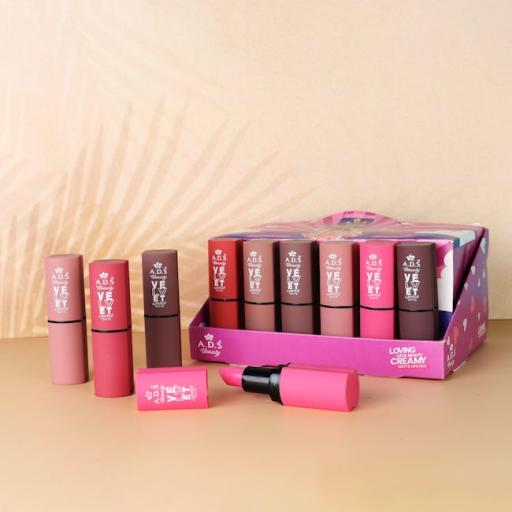lipstick: (219, 364, 359, 411), (90, 260, 133, 396), (45, 254, 88, 384), (142, 250, 181, 367), (397, 242, 439, 339), (320, 242, 359, 336), (279, 240, 317, 333), (360, 241, 396, 339), (243, 240, 278, 331), (208, 238, 243, 329), (136, 366, 207, 410)
